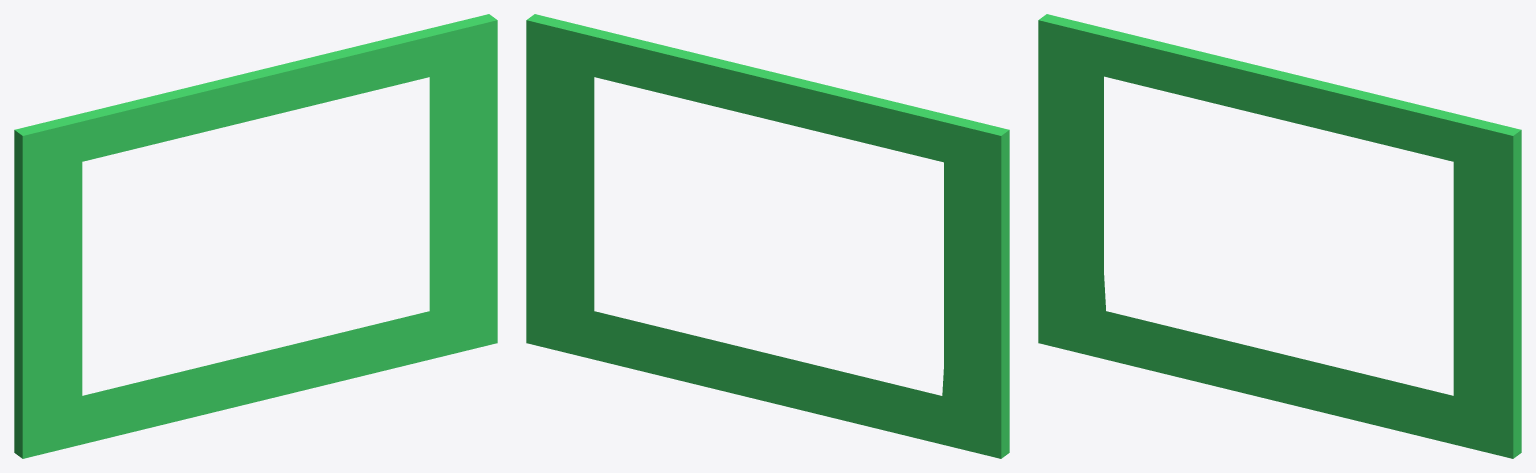
Rendered from window2.fbx.
3 views of the same model, side by side, from view 1: azimuth 30°, elevation 25°; view 2: azimuth 150°, elevation 25°; view 3: azimuth 330°, elevation 25° (orthographic).
Parts seen in each view (by area): view 1: window2; view 2: window2; view 3: window2.
Part boxes in pixels (x1=…): window2: x1=14, y1=14, x2=497, y2=458; window2: x1=526, y1=14, x2=1009, y2=458; window2: x1=1038, y1=14, x2=1521, y2=458.
Bounding box in the file's own units: 1526 × 992 × 46.83.
